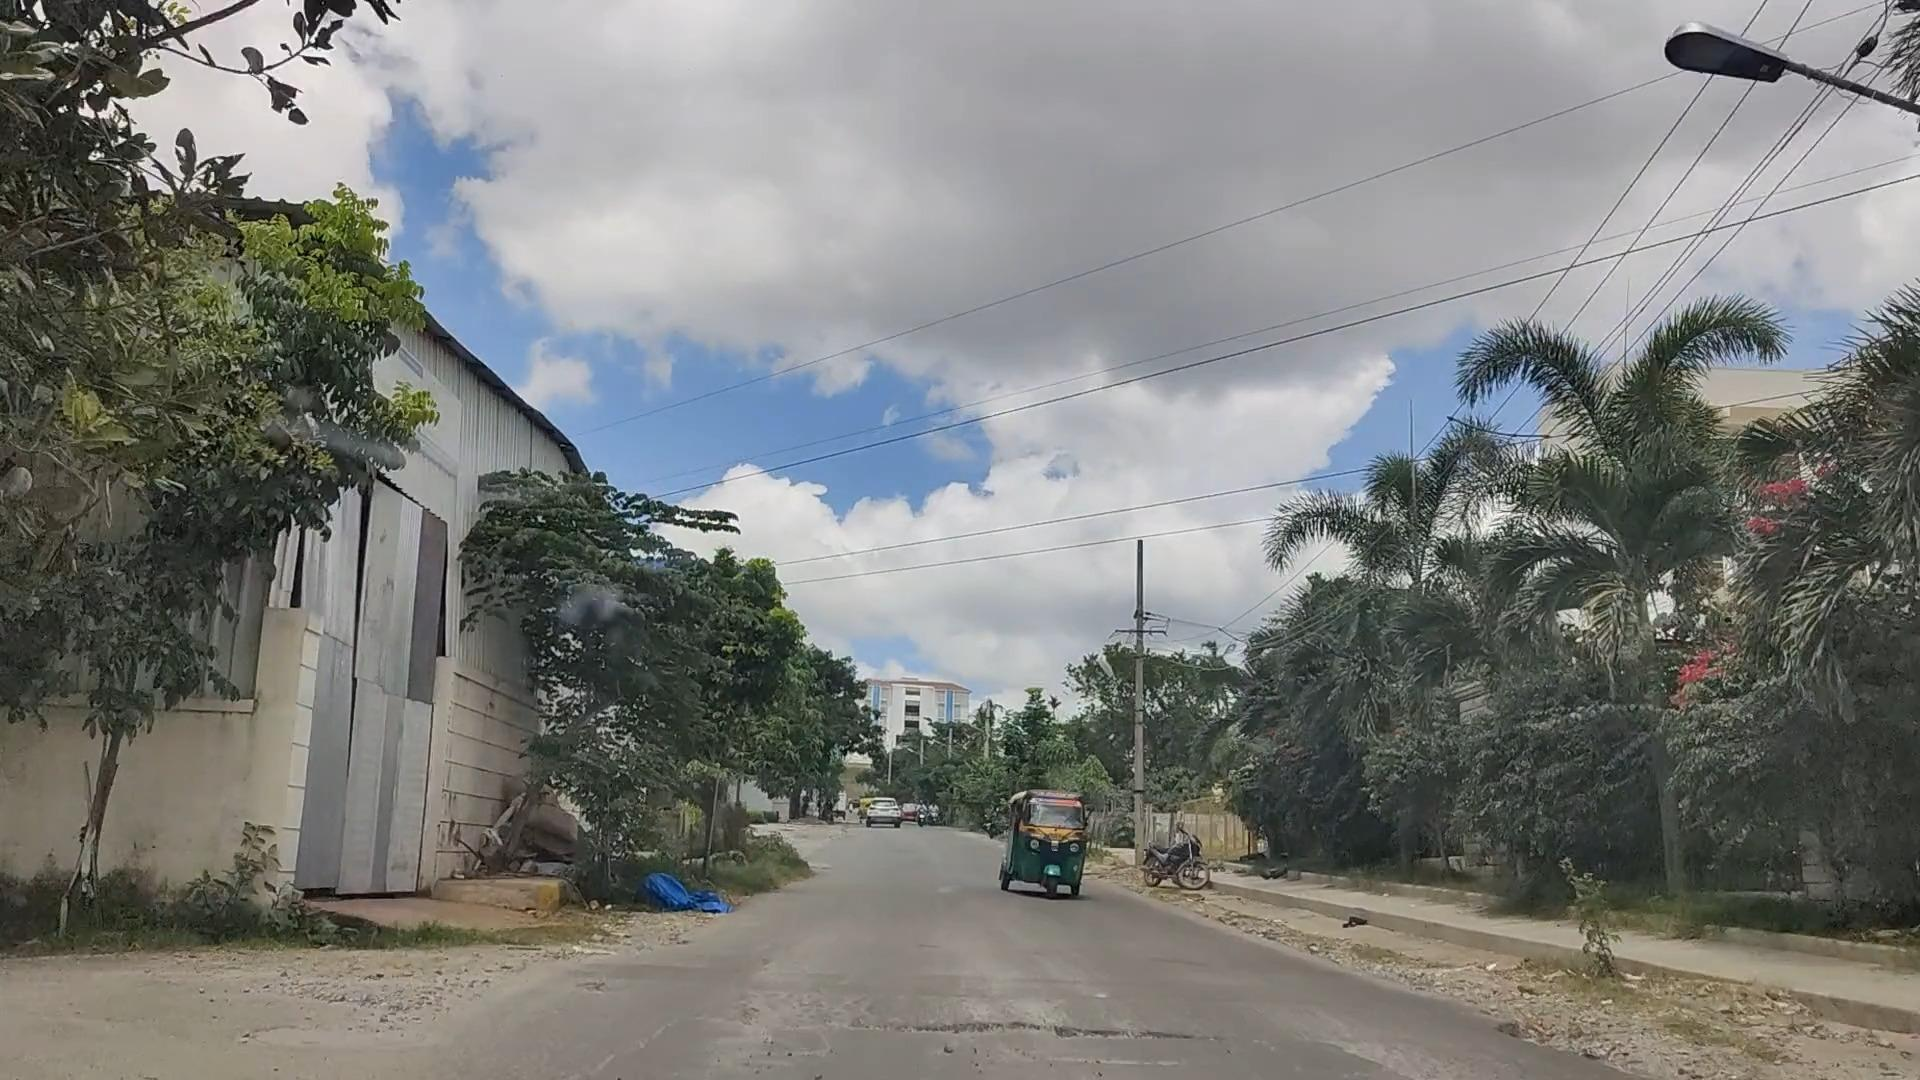RoadDamages: (833, 955, 1208, 1060), (191, 951, 475, 1064)
